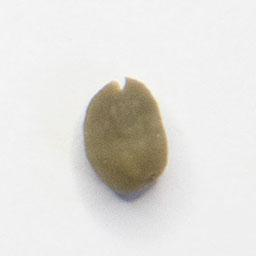peaberry: (80, 74, 171, 200)
